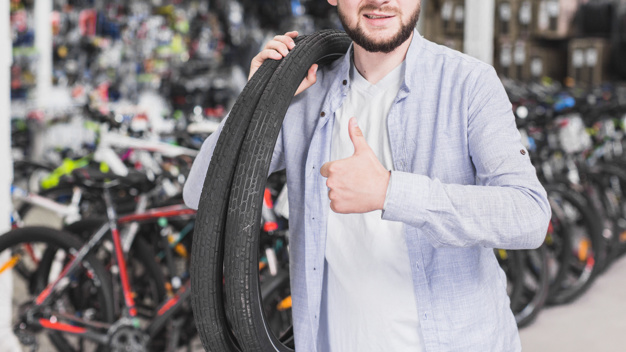thumbsup: (320, 117, 369, 214)
